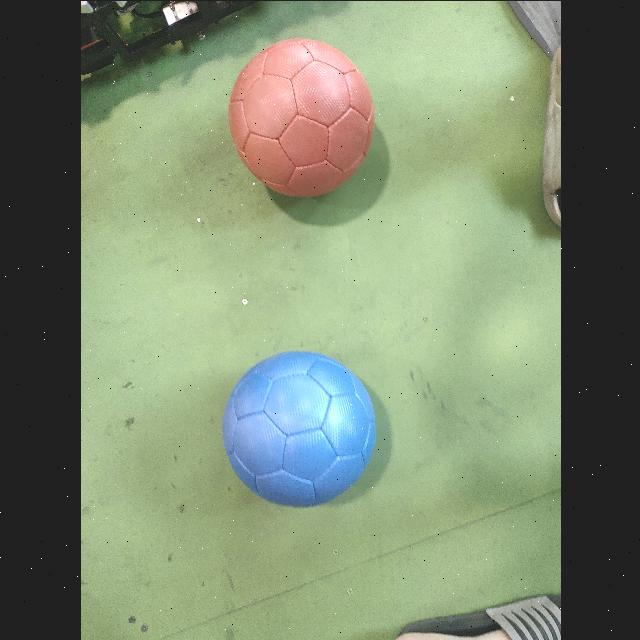B: (222, 351, 375, 505)
R: (227, 38, 374, 196)
